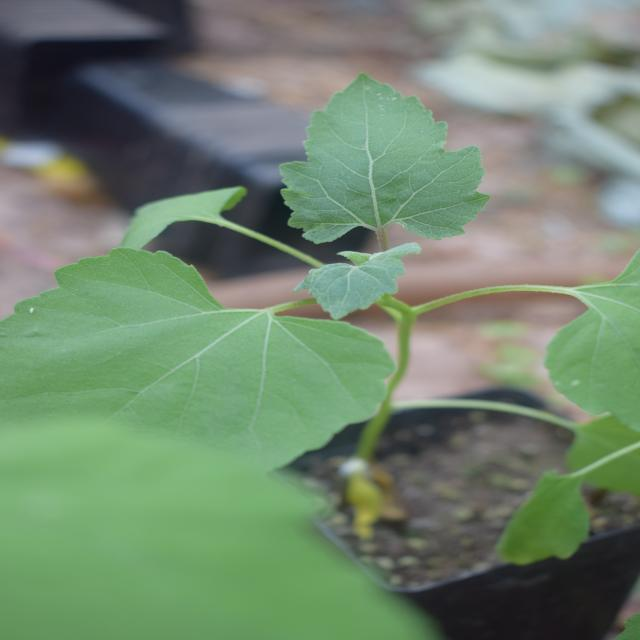cocklebur: (112, 0, 558, 551)
